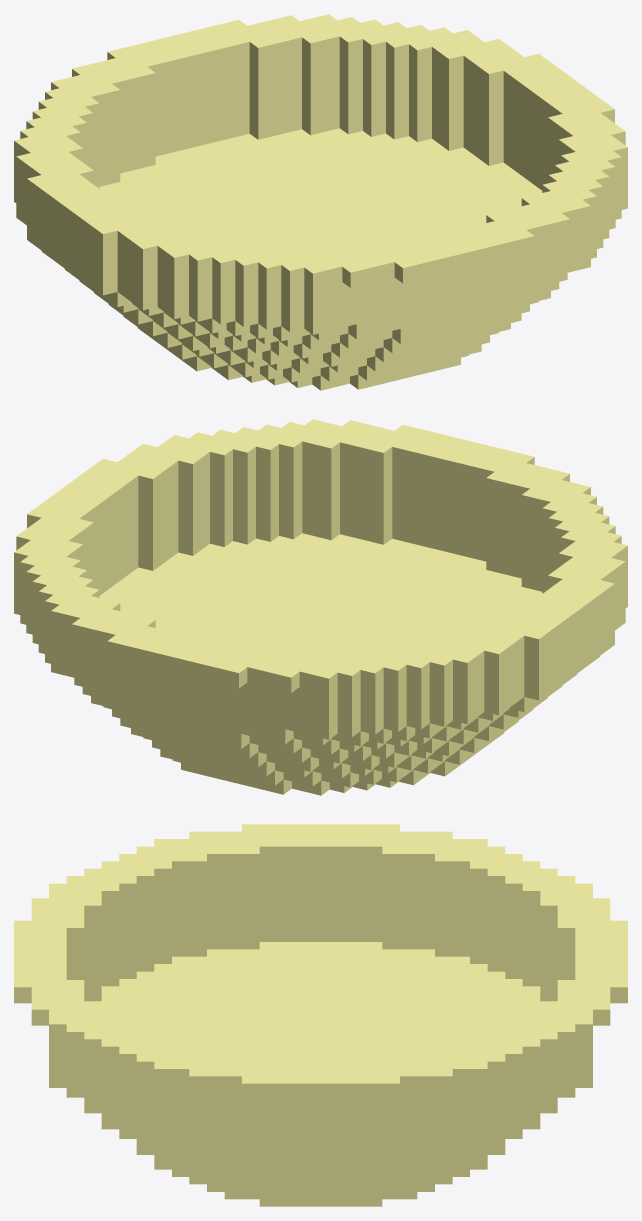
Rendered from BowlBunBo.obj.
3 renders of one model, top to bottom at view 1: azimuth 30°, elevation 25°; view 2: azimuth 150°, elevation 25°; view 3: azimuth 270°, elevation 25°, orthographic. The views are drawn at different scales.
Size of the model in its own units: 3.5 by 1.1 by 3.5.
Materials: 1 (1 with a texture image).
